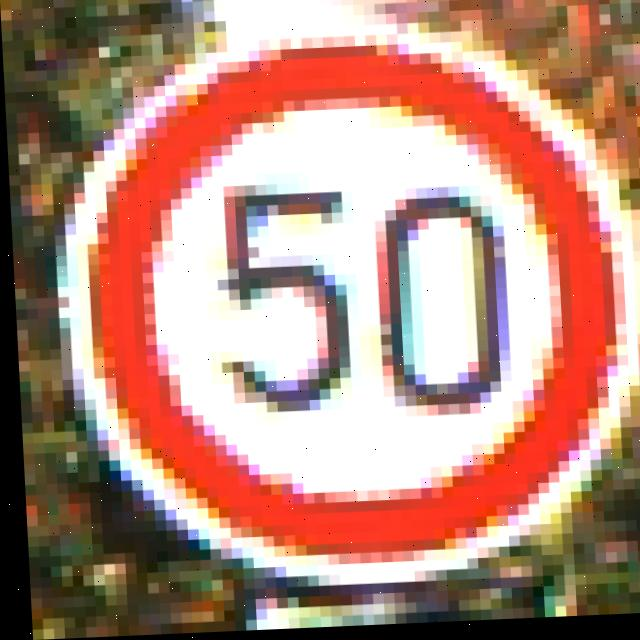speed_limit_50: (51, 29, 623, 580)
